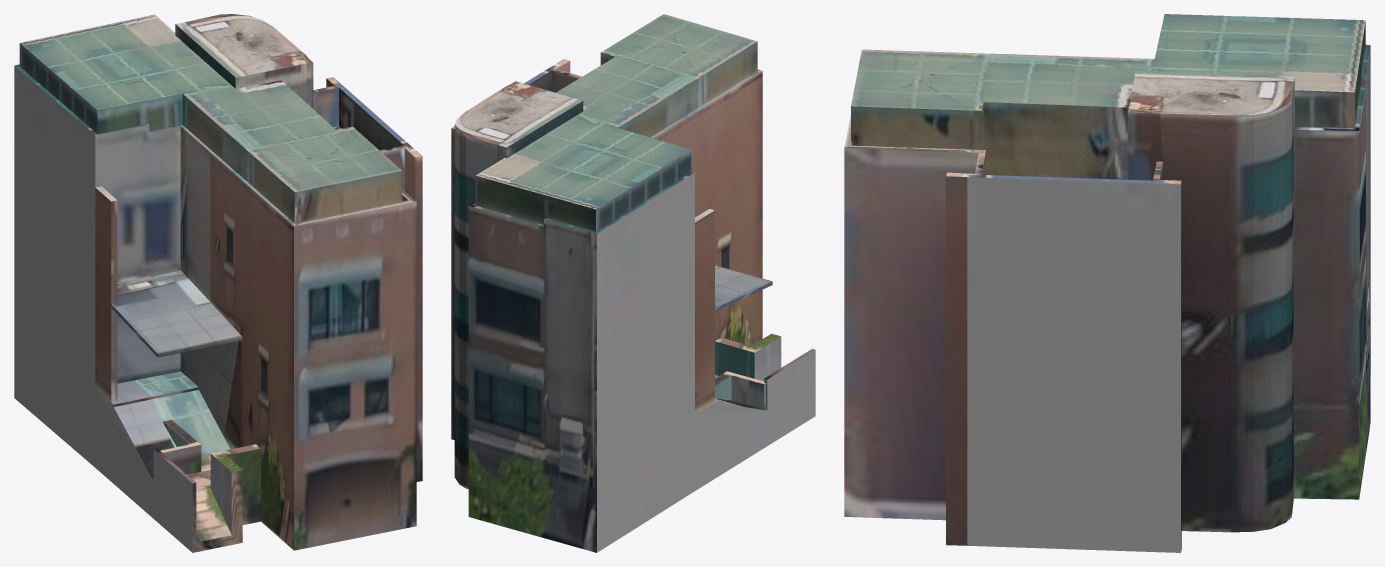
3 views of the same model, side by side, from view 1: azimuth 30°, elevation 25°; view 2: azimuth 150°, elevation 25°; view 3: azimuth 270°, elevation 25° (orthographic). The views are drawn at different scales.
Parts seen in each view (by area): view 1: B280194041701063A0; view 2: B280194041701063A0; view 3: B280194041701063A0.
Part boxes in pixels (x1,y1,x2,y2): B280194041701063A0: (14, 14, 422, 552); B280194041701063A0: (451, 14, 815, 552); B280194041701063A0: (844, 14, 1370, 552).
Bounding box in the file's own units: 8.83 × 11.89 × 13.61.
Materials: 1 (1 with a texture image).
